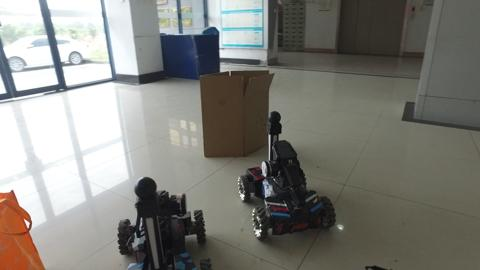box: (197, 64, 270, 155)
chariot: (238, 117, 337, 237), (113, 174, 215, 270)
